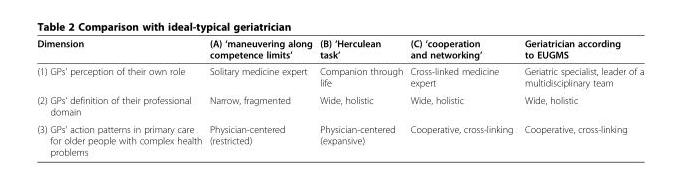table: (36, 37, 643, 157)
table column: (36, 37, 205, 157), (518, 37, 643, 157), (405, 37, 518, 157), (205, 37, 315, 157), (315, 37, 405, 157)
table column header: (36, 37, 643, 62)
table row: (36, 120, 643, 157), (36, 62, 643, 91), (36, 91, 643, 120), (36, 37, 643, 62)
